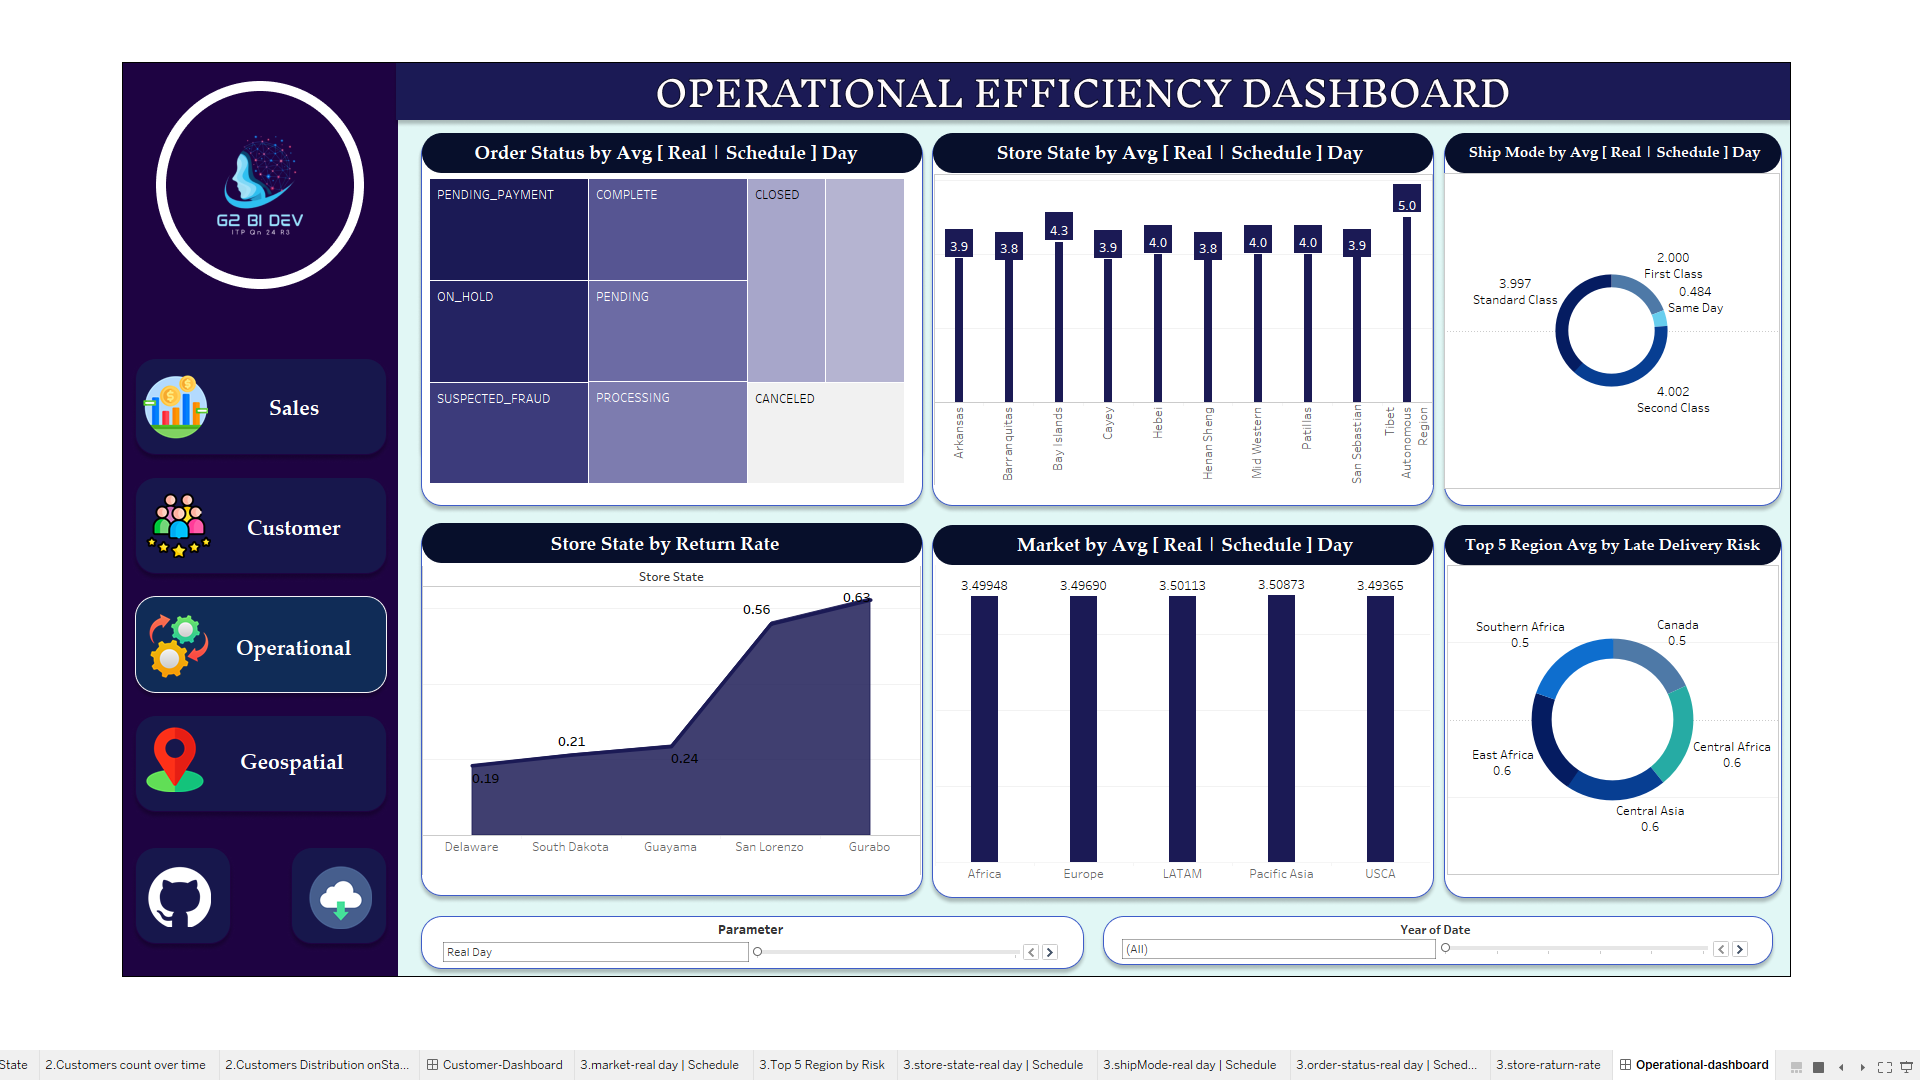

The dashboard page shown, as its layout file describes it:
{"tool":"tableau","page":{"name":"Operational-dashboard","canvas":[1700,950],"ordinal":3},"visuals":[{"type":"image","param":"C:/Users/mahmo/OneDrive/Desktop/Sales/background/New folder (2)/Operational.png","box":[8,8,1684,934]},{"type":"text","box":[325,84,462,36]},{"type":"text","box":[839,84,462,36]},{"type":"text","box":[1350,84,309,36]},{"type":"worksheet","title":"3.shipMode-real day | Schedule","mark":"Pie","rows":["Calculation_348466078768136199","Calculation_348466078768136199"],"box":[1334,123,336,316]},{"type":"worksheet","title":"3.order-status-real day | Schedule","mark":"Automatic","box":[315,124,489,321]},{"type":"worksheet","title":"3.store-state-real day | Schedule","mark":"Bar","rows":["Calculation_182395842700795904","Calculation_182395842700795904"],"cols":["Store_State"],"box":[824,124,500,312]},{"type":"dashboard-object","box":[108,322,153,70]},{"type":"image","param":"C:/Users/mahmo/OneDrive/Desktop/Sales-project/ICONS/sales-dashboard.png","box":[31,324,70,65]},{"type":"dashboard-object","box":[108,442,153,70]},{"type":"image","param":"C:/Users/mahmo/OneDrive/Desktop/Sales-project/ICONS/customer-dashboard.png","box":[34,443,70,65]},{"type":"text","box":[338,475,434,36]},{"type":"text","box":[844,476,462,36]},{"type":"text","box":[1348,476,309,36]},{"type":"worksheet","title":"3.market-real day | Schedule","mark":"Bar","rows":["Calculation_182395842700795904"],"cols":["Market_Name"],"box":[825,515,495,318]},{"type":"worksheet","title":"3.Top 5 Region by Risk","mark":"Pie","rows":["Calculation_348466078768136199","Calculation_348466078768136199"],"box":[1337,515,332,310]},{"type":"worksheet","title":"3.store-raturn-rate","mark":"Bar","rows":["Calculation_1244400927306526721","Calculation_1244400927306526721"],"cols":["Store_State"],"box":[312,516,499,310]},{"type":"image","param":"C:/Users/mahmo/OneDrive/Desktop/Sales-project/ICONS/operational-dashboard.png","box":[34,563,70,65]},{"type":"dashboard-object","box":[108,563,153,69]},{"type":"image","param":"C:/Users/mahmo/OneDrive/Desktop/Sales-project/ICONS/geo-dashboard.png","box":[30,677,70,65]},{"type":"dashboard-object","box":[108,677,153,69]},{"type":"image","param":"C:/Users/mahmo/OneDrive/Desktop/Sales-project/ICONS/github-mark-white.png","box":[38,812,63,70]},{"type":"dashboard-object","box":[199,813,63,70]},{"type":"parameter","param":"[Parameters].[Parameter 1]","box":[330,870,621,44]},{"type":"filter","title":"3.store-state-real day | Schedule","param":"[federated.0a7f3eg1xpprtt1e4fdhm1t957b5].[yr:Date:ok]","box":[1009,871,633,38]}]}

Visuals, with their boxes on the page's 1700x950 design canvas (x1, y1, x2, y2). These are canvas units, not pixel positions in the 1920x1080 screenshot, which may show the page scaled, cropped or inside an application window:
image: [left=8, top=8, right=1692, bottom=942]
text: [left=325, top=84, right=787, bottom=120]
text: [left=839, top=84, right=1301, bottom=120]
text: [left=1350, top=84, right=1659, bottom=120]
"3.shipMode-real day | Schedule" worksheet (Pie marks): [left=1334, top=123, right=1670, bottom=439]
"3.order-status-real day | Schedule" worksheet: [left=315, top=124, right=804, bottom=445]
"3.store-state-real day | Schedule" worksheet (Bar marks): [left=824, top=124, right=1324, bottom=436]
dashboard-object: [left=108, top=322, right=261, bottom=392]
image: [left=31, top=324, right=101, bottom=389]
dashboard-object: [left=108, top=442, right=261, bottom=512]
image: [left=34, top=443, right=104, bottom=508]
text: [left=338, top=475, right=772, bottom=511]
text: [left=844, top=476, right=1306, bottom=512]
text: [left=1348, top=476, right=1657, bottom=512]
"3.market-real day | Schedule" worksheet (Bar marks): [left=825, top=515, right=1320, bottom=833]
"3.Top 5 Region by Risk" worksheet (Pie marks): [left=1337, top=515, right=1669, bottom=825]
"3.store-raturn-rate" worksheet (Bar marks): [left=312, top=516, right=811, bottom=826]
image: [left=34, top=563, right=104, bottom=628]
dashboard-object: [left=108, top=563, right=261, bottom=632]
image: [left=30, top=677, right=100, bottom=742]
dashboard-object: [left=108, top=677, right=261, bottom=746]
image: [left=38, top=812, right=101, bottom=882]
dashboard-object: [left=199, top=813, right=262, bottom=883]
parameter: [left=330, top=870, right=951, bottom=914]
"3.store-state-real day | Schedule" filter: [left=1009, top=871, right=1642, bottom=909]
